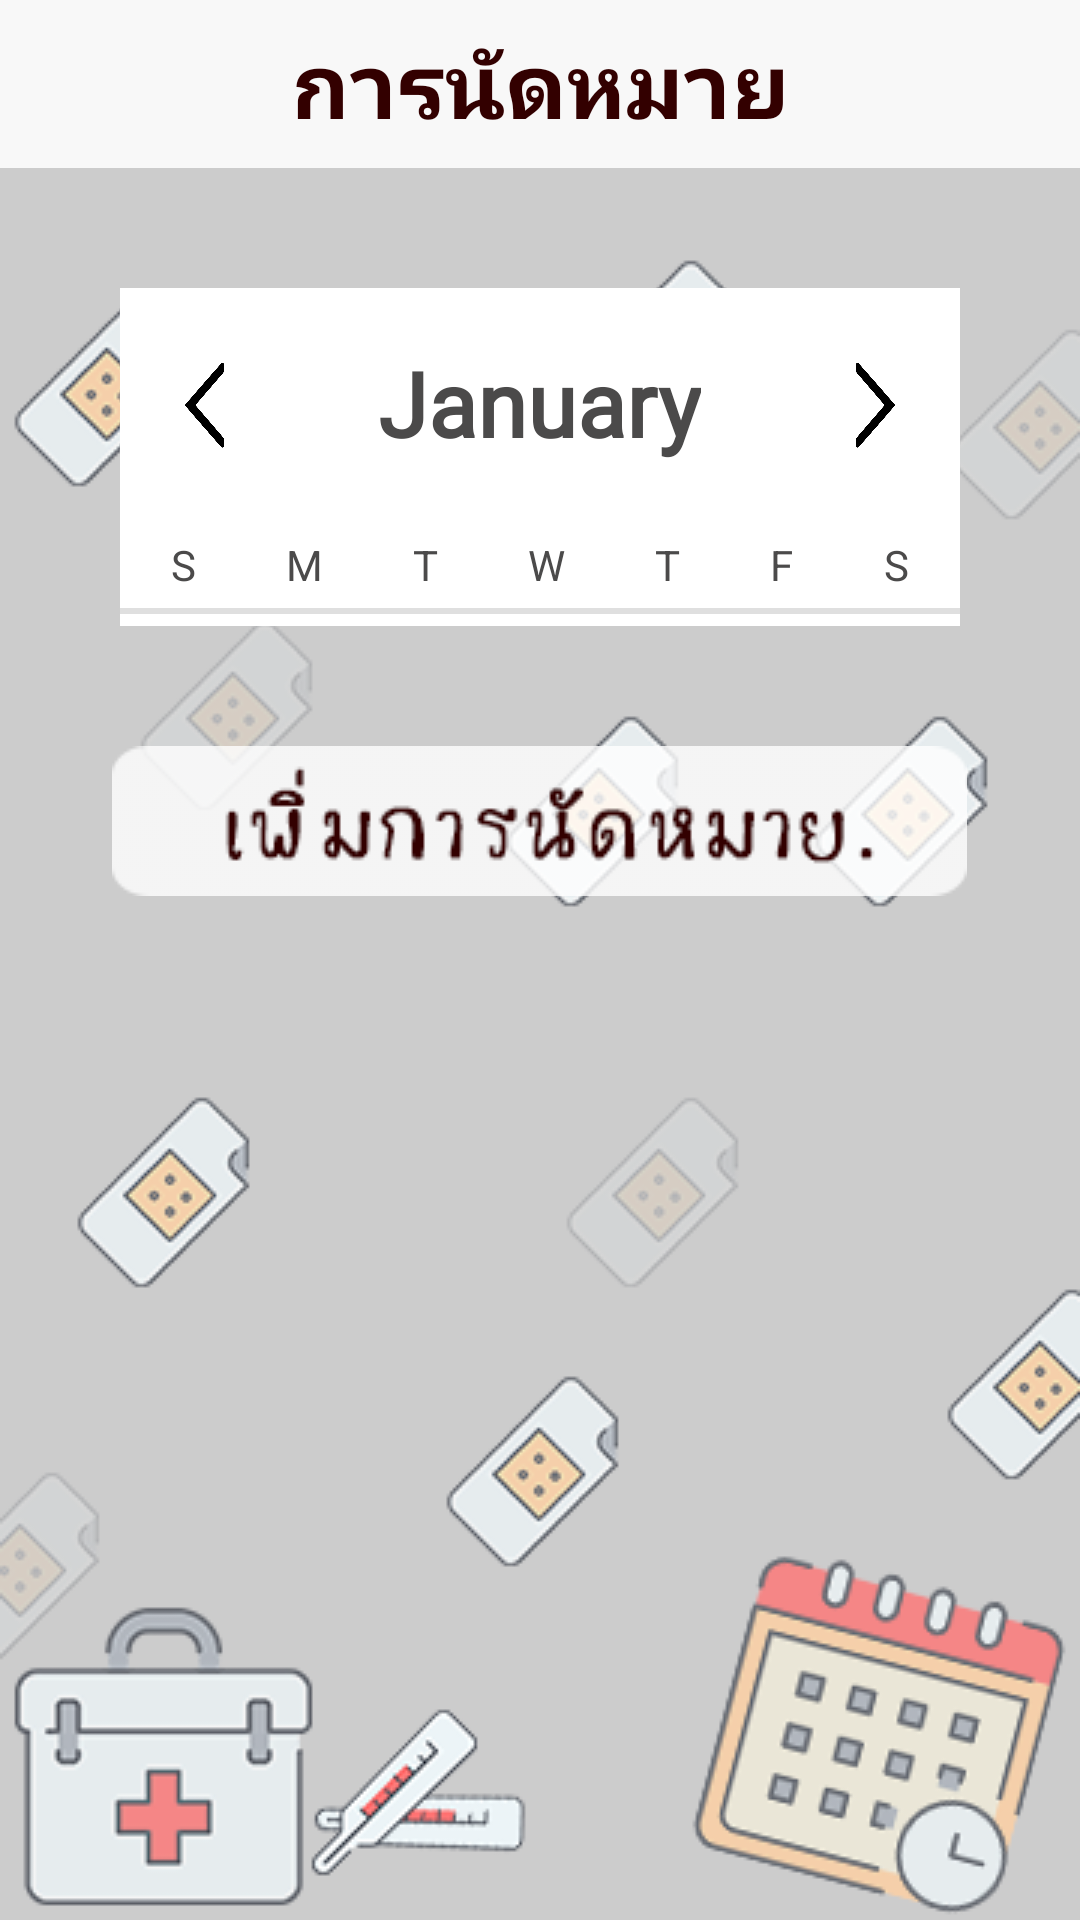

Icon click points for this 1080*1920 phone screenshot, format (x=x, y=y):
left: (x=204, y=405)
right: (x=875, y=405)
